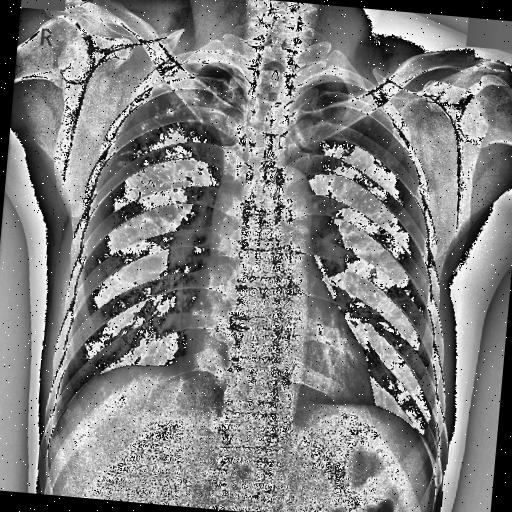11- Pleural thickening: (105, 80, 245, 218), (162, 54, 234, 80), (294, 74, 356, 92)
13- Pulmonary fibrosis: (324, 122, 424, 320), (105, 80, 245, 218), (112, 72, 238, 216), (116, 86, 212, 212), (329, 116, 429, 235), (166, 284, 208, 330), (360, 148, 384, 196), (365, 122, 401, 150)
2- Calcification: (324, 122, 424, 320), (105, 80, 245, 218), (112, 72, 238, 216), (116, 86, 212, 212), (329, 116, 429, 235), (166, 284, 208, 330), (173, 288, 207, 316), (366, 266, 378, 282)
8- Nodule-Mass: (175, 292, 206, 318), (368, 267, 379, 283), (378, 203, 386, 221), (394, 188, 406, 198), (386, 158, 396, 168), (404, 202, 413, 210), (387, 219, 395, 227), (368, 127, 371, 131)
